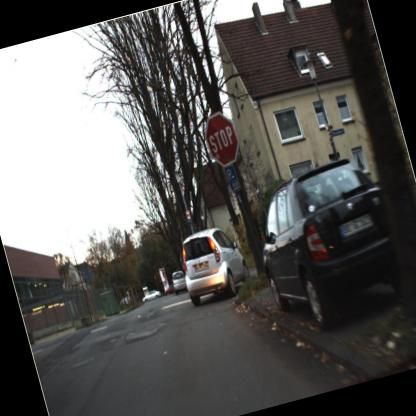other: (195, 106, 247, 174)
